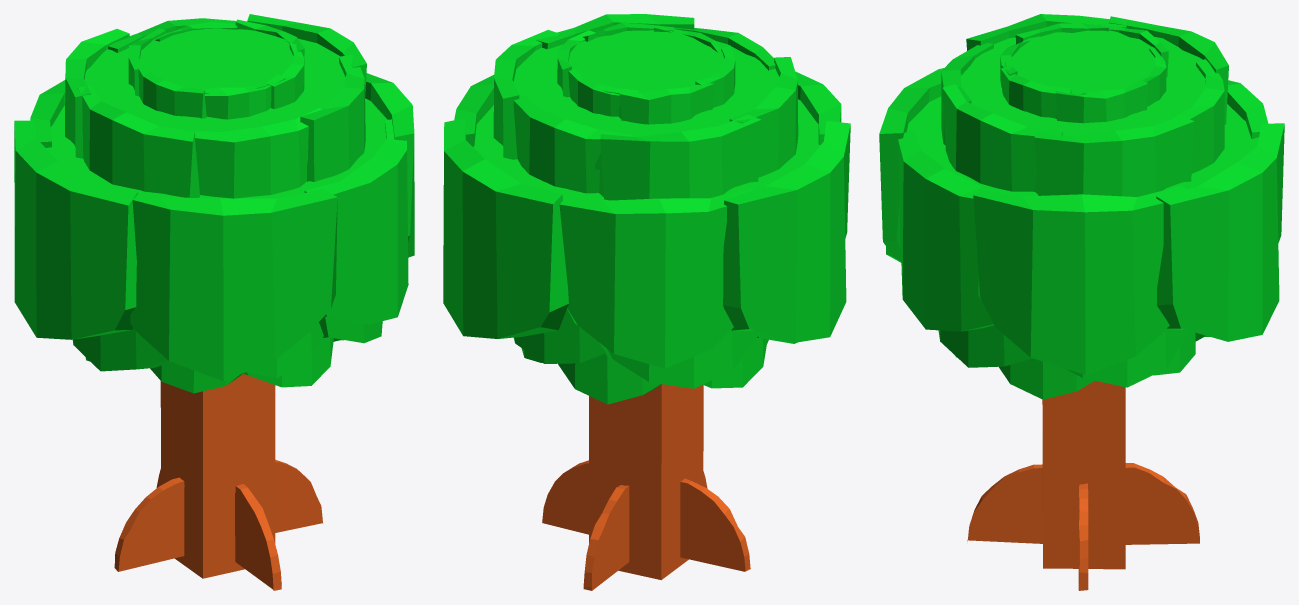
The model's file is Tree01.fbx.
The picture shows the model from 3 angles, left to right: view 1: azimuth 30°, elevation 25°; view 2: azimuth 150°, elevation 25°; view 3: azimuth 270°, elevation 25°; orthographic projection.
Visible parts, largest first — view 1: Cube; view 2: Cube; view 3: Cube.
Boxes of the visible parts, left/top/right/bottom form: Cube: left=14, top=14, right=414, bottom=590; Cube: left=443, top=14, right=850, bottom=590; Cube: left=879, top=14, right=1284, bottom=590.
Size of the model in its own units: 984 by 1318 by 978.
